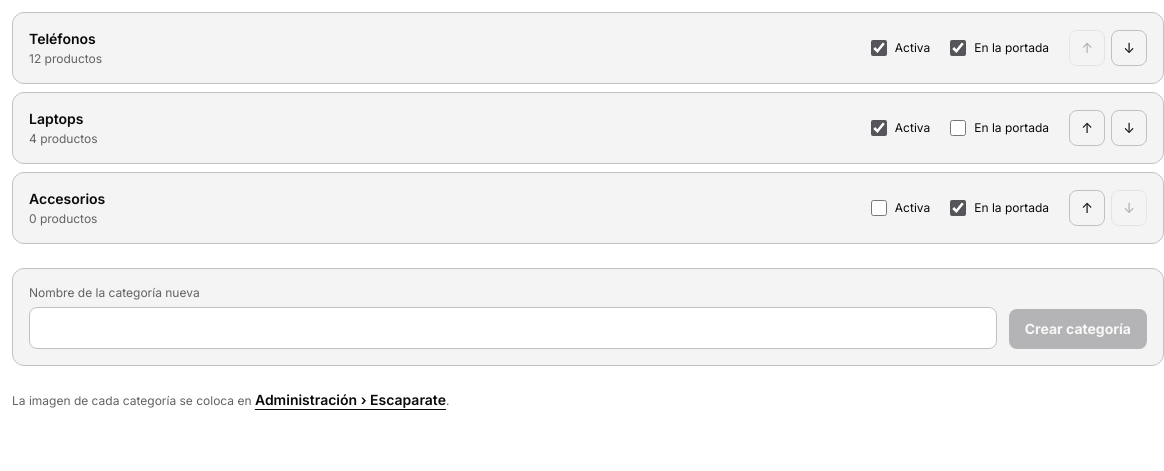
Test case: retiring a category says its products stay
This screenshot has width=1164, height=471.
Click the checkbox named "«Teléfonos» activa" at (879, 48), box [871,40,887,56]
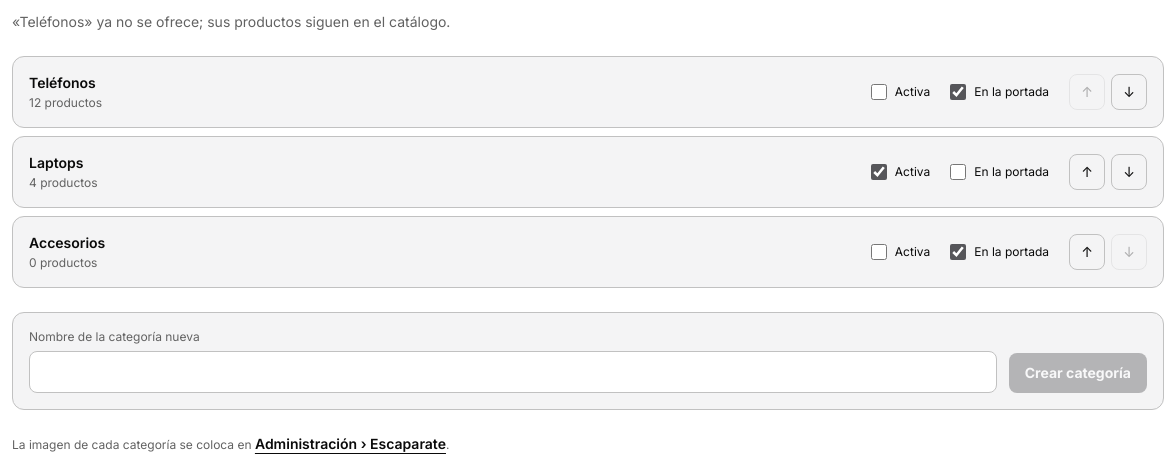
Expected: the text "«Teléfonos» ya no se ofrece; sus productos siguen en el catálogo." is shown, [12,13,450,30]
